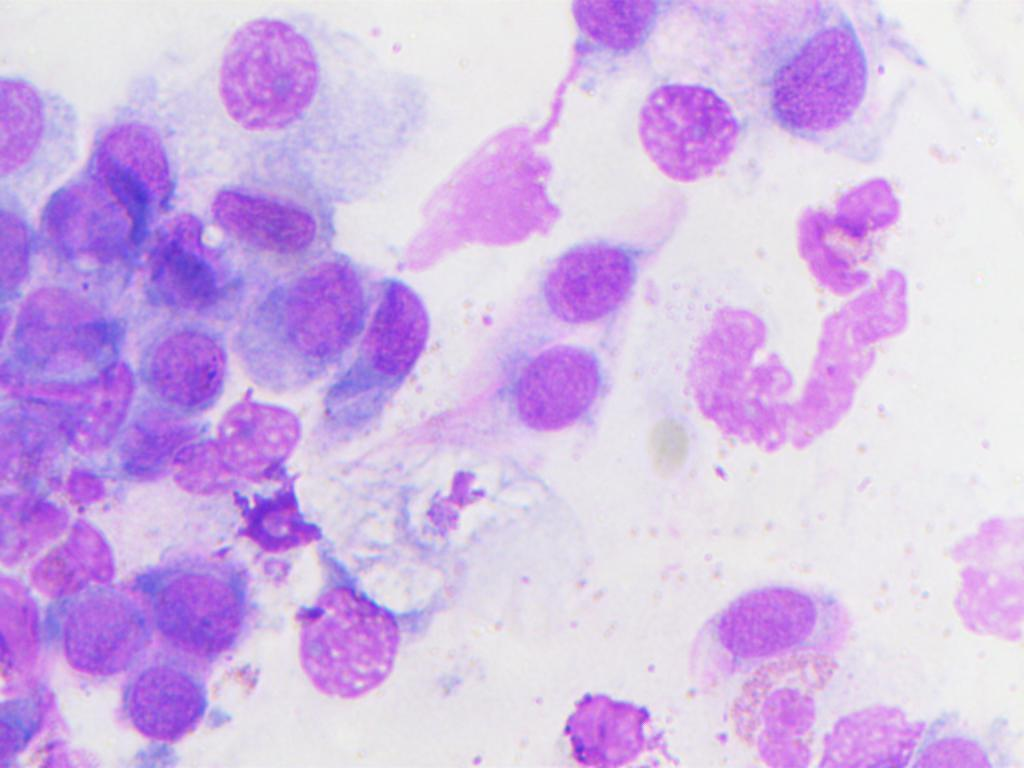artifact: (670, 289, 921, 468), (389, 111, 573, 267), (786, 178, 906, 292), (939, 489, 1024, 636)
eosinophil: (718, 657, 853, 768)
epithelial: (678, 582, 870, 693), (153, 394, 316, 500), (292, 582, 403, 699), (214, 12, 319, 131), (763, 23, 871, 133), (33, 352, 149, 454), (632, 79, 741, 183), (151, 561, 261, 662), (9, 279, 122, 377), (0, 57, 73, 197), (40, 593, 151, 675), (510, 338, 602, 433), (539, 237, 637, 325), (28, 506, 115, 602), (136, 326, 236, 406), (560, 688, 657, 764), (536, 0, 677, 52), (818, 704, 931, 768), (120, 666, 206, 748), (0, 201, 41, 311), (918, 732, 1009, 768)
goblet_cell: (234, 256, 367, 382), (85, 110, 182, 263), (208, 175, 335, 261), (365, 274, 439, 408)
